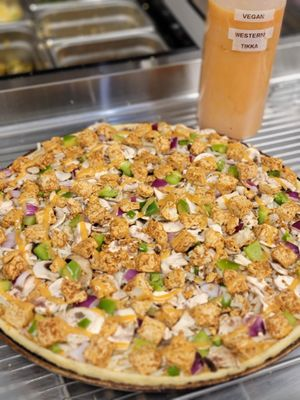burger: (196, 0, 287, 141)
sandwich: (0, 120, 300, 393)
